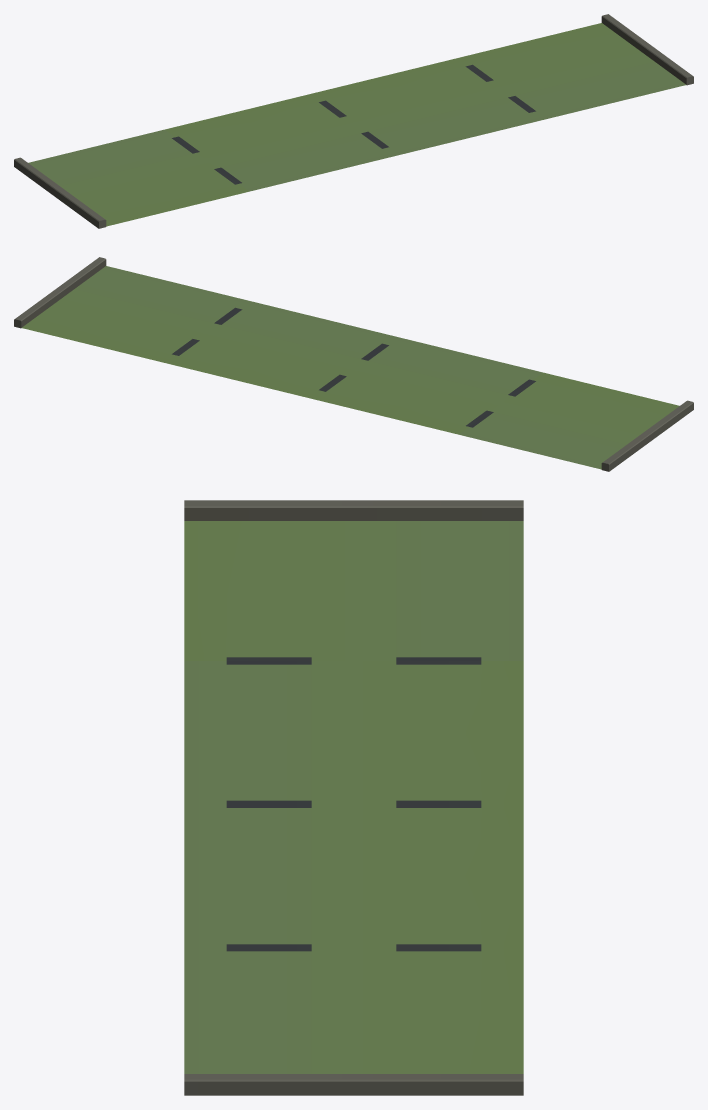
File: Road_50.fbx
3 renders of one model, top to bottom at view 1: azimuth 30°, elevation 25°; view 2: azimuth 150°, elevation 25°; view 3: azimuth 270°, elevation 25°, orthographic. The views are drawn at different scales.
Visible parts, largest first — view 1: Road_50; view 2: Road_50; view 3: Road_50.
Part boxes in pixels (x1=…): Road_50: x1=14, y1=14, x2=693, y2=228; Road_50: x1=14, y1=257, x2=693, y2=471; Road_50: x1=184, y1=500, x2=523, y2=1095.
Bounding box in the file's own units: 12.15 × 0.15 × 3.
